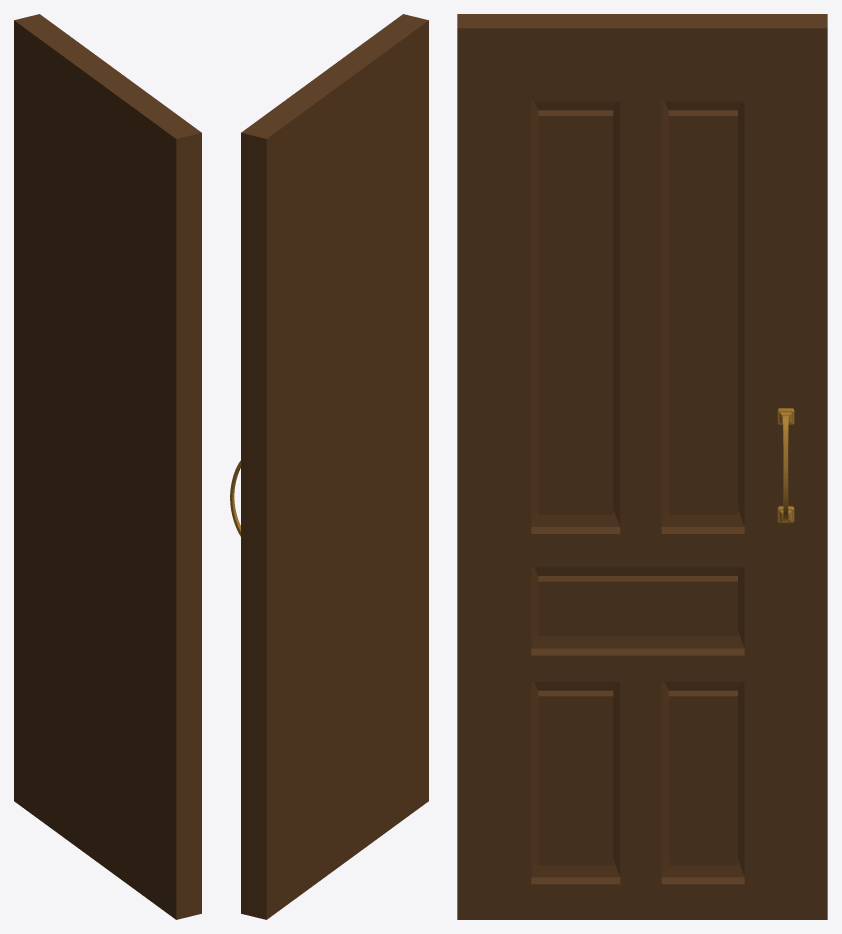
Rendered from Door.fbx.
The picture shows the model from 3 angles, left to right: view 1: azimuth 30°, elevation 25°; view 2: azimuth 150°, elevation 25°; view 3: azimuth 270°, elevation 25°; orthographic projection. The views are drawn at different scales.
Visible parts, largest first — view 1: Cube.005; view 2: Cube.005; view 3: Cube.005, holder.003.
Boxes of the visible parts, x1,y1,x2,y2 form: Cube.005: [14, 14, 201, 919]; Cube.005: [241, 14, 428, 919]; Cube.005: [457, 14, 827, 919]; holder.003: [777, 408, 794, 523].
Bounding box in the file's own units: 30.29 × 419 × 158.
